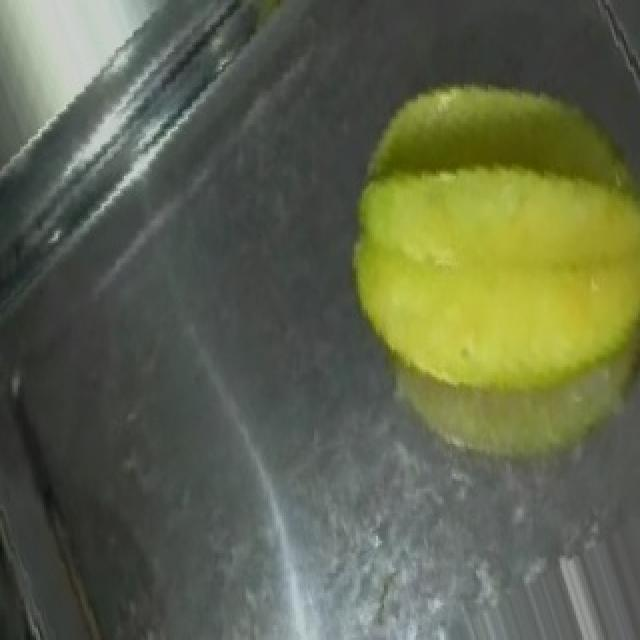fruit: (314, 30, 640, 439)
